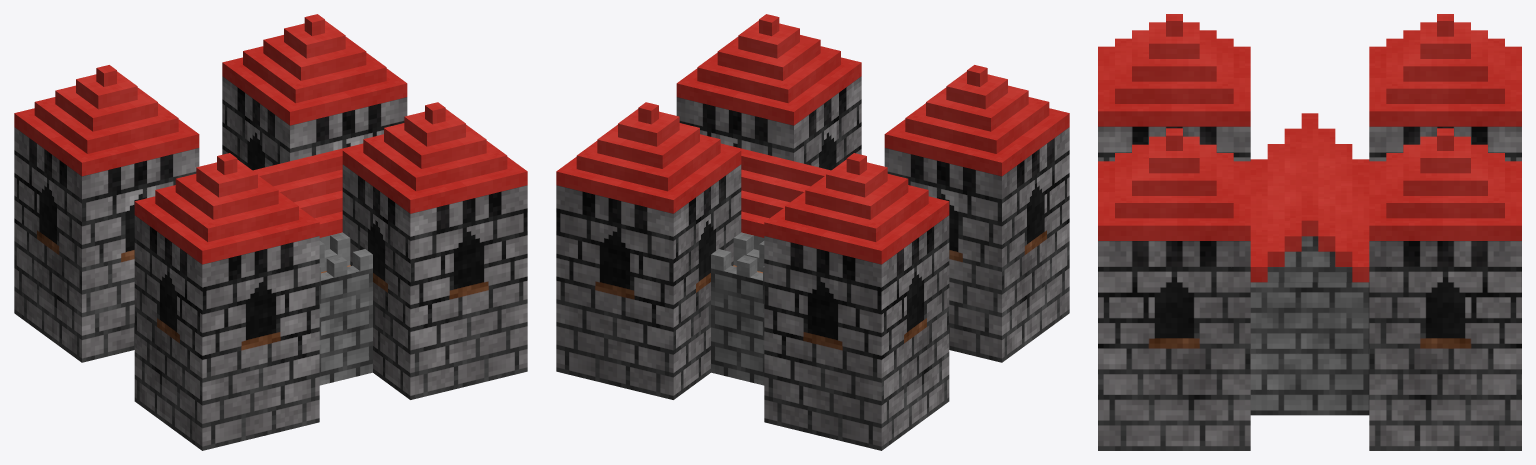
The model's file is koszary.fbx.
3 renders of one model, left to right at view 1: azimuth 30°, elevation 25°; view 2: azimuth 150°, elevation 25°; view 3: azimuth 270°, elevation 25°, orthographic. The views are drawn at different scales.
Parts seen in each view (by area): view 1: Cube; view 2: Cube; view 3: Cube.
Boxes of the visible parts, left/top/right/bottom form: Cube: left=14, top=14, right=527, bottom=450; Cube: left=556, top=14, right=1069, bottom=450; Cube: left=1098, top=14, right=1521, bottom=450.
Bounding box in the file's own units: 1872 × 1400 × 1875.
